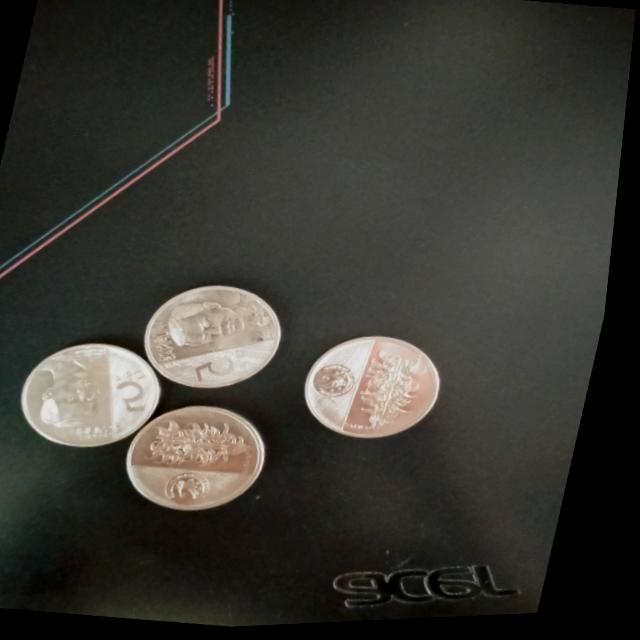5_New_Back: (155, 411, 278, 480)
5_New_Front: (109, 358, 171, 433), (190, 343, 266, 398)
